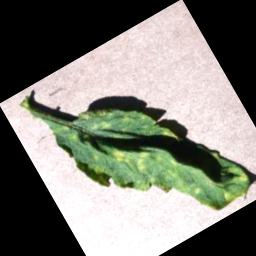Leaf_Mold: (129, 148, 157, 176), (109, 145, 130, 166)
